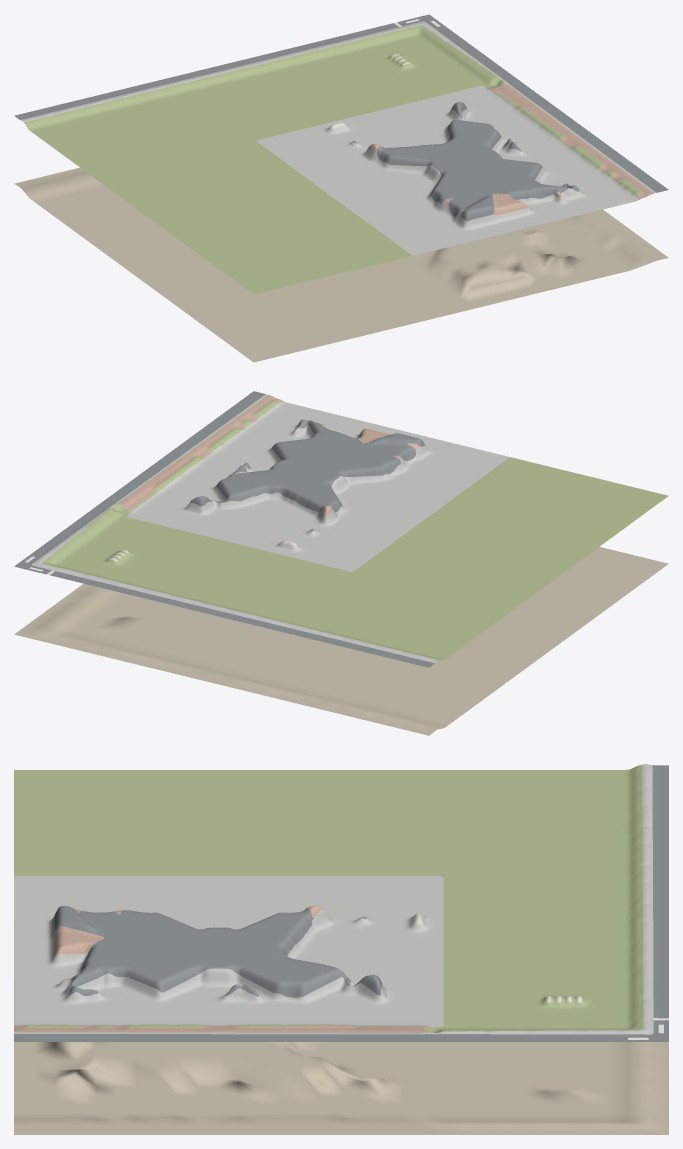
The picture shows the model from 3 angles, top to bottom: view 1: azimuth 30°, elevation 25°; view 2: azimuth 150°, elevation 25°; view 3: azimuth 270°, elevation 25°; orthographic projection. The views are drawn at different scales.
Parts seen in each view (by area): view 1: s_-9_4__grass, s_-9_4__soil, s_-9_4__stone_paving, s_-9_4__asphalt, s_-9_4__brick_paving; view 2: s_-9_4__grass, s_-9_4__soil, s_-9_4__stone_paving, s_-9_4__asphalt, s_-9_4__brick_paving; view 3: s_-9_4__grass, s_-9_4__soil, s_-9_4__stone_paving, s_-9_4__asphalt, s_-9_4__brick_paving.
Part boxes in pixels (<box>): s_-9_4__grass: <box>24,25,640,294</box>; s_-9_4__soil: <box>14,167,668,362</box>; s_-9_4__stone_paving: <box>20,21,656,255</box>; s_-9_4__asphalt: <box>14,14,668,221</box>; s_-9_4__brick_paving: <box>367,83,653,220</box>; s_-9_4__grass: <box>42,401,668,660</box>; s_-9_4__soil: <box>14,547,668,735</box>; s_-9_4__stone_paving: <box>31,394,509,663</box>; s_-9_4__asphalt: <box>14,391,434,667</box>; s_-9_4__brick_paving: <box>118,395,419,516</box>; s_-9_4__grass: <box>14,764,643,1032</box>; s_-9_4__soil: <box>14,984,668,1134</box>; s_-9_4__stone_paving: <box>14,764,653,1034</box>; s_-9_4__asphalt: <box>14,765,668,1041</box>; s_-9_4__brick_paving: <box>14,906,427,1033</box>.
Size of the model in its own units: 128 by 24.01 by 128.
